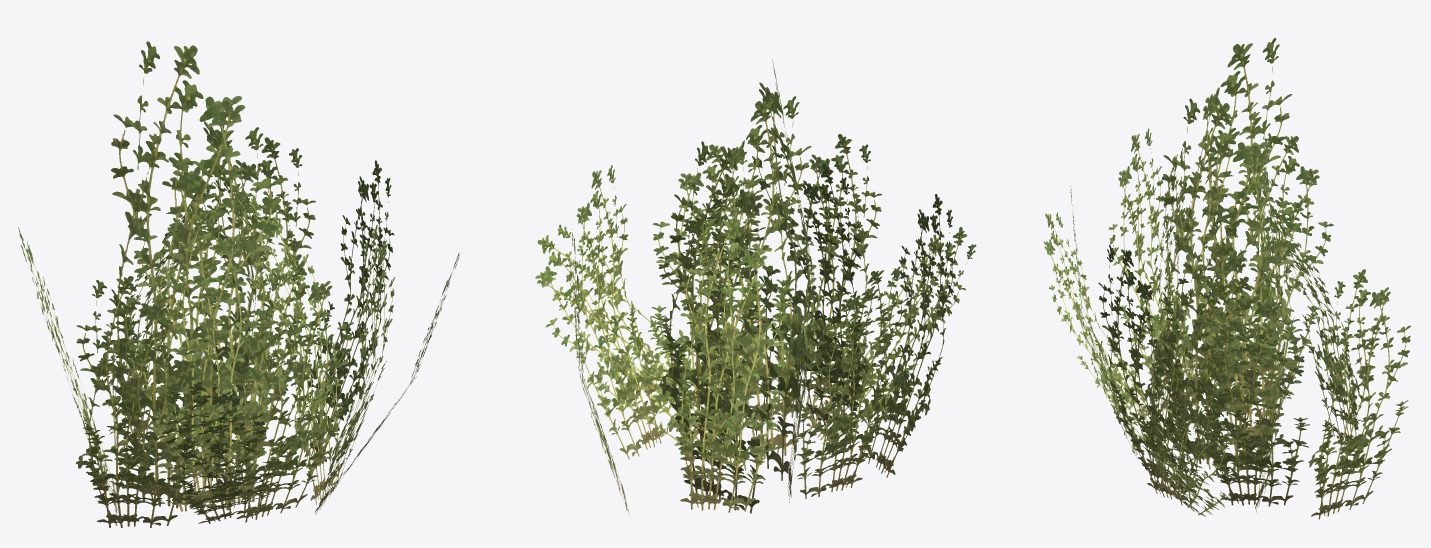
The model's file is Cultivo 4.fbx.
3 renders of one model, left to right at view 1: azimuth 30°, elevation 25°; view 2: azimuth 150°, elevation 25°; view 3: azimuth 270°, elevation 25°, orthographic. The views are drawn at different scales.
Visible parts, largest first — view 1: Object_20; view 2: Object_20; view 3: Object_20.
Part boxes in pixels (x1=…): Object_20: x1=18, y1=41, x2=459, y2=527; Object_20: x1=535, y1=59, x2=976, y2=515; Object_20: x1=1043, y1=38, x2=1410, y2=519.
Size of the model in its own units: 31.43 by 33.26 by 26.27.
1 material, 1 textured.
